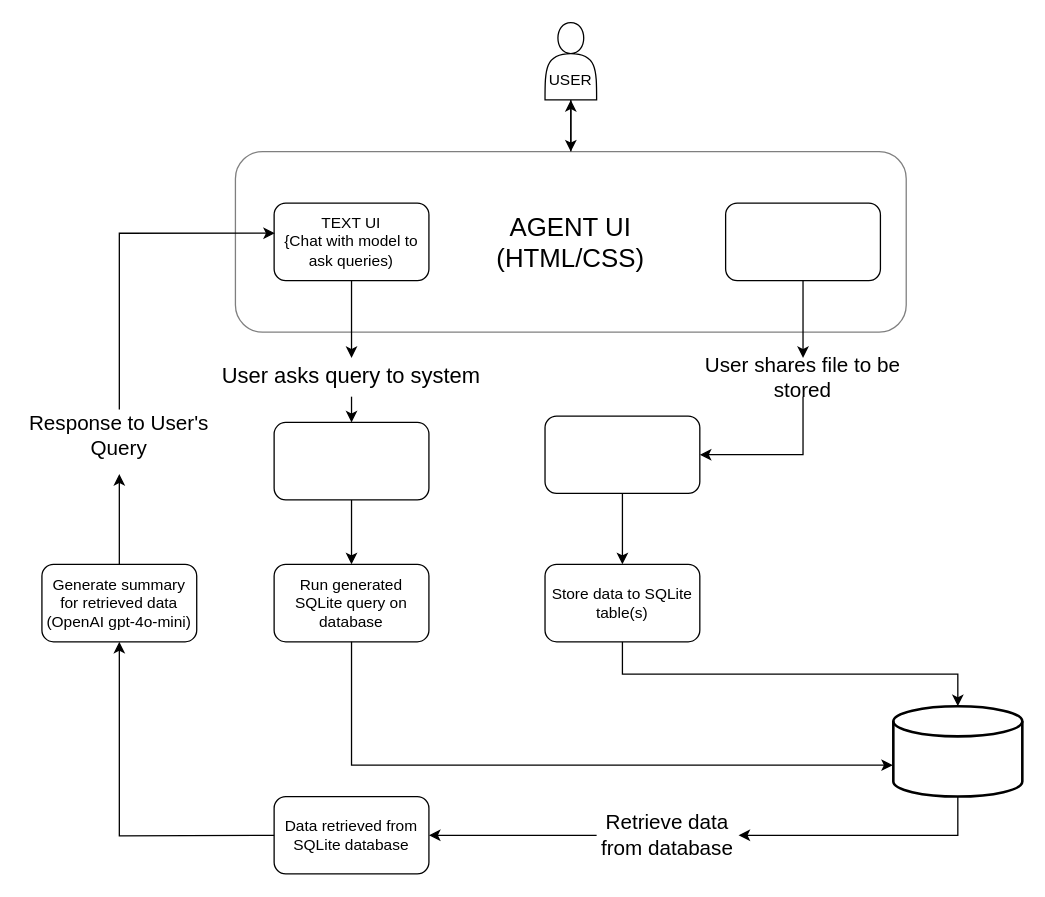
This 1045x897 diagram has some shape labels left out. Here are the shapes that lost their labels. From the top down, the box of each, then its label:
(724, 202, 880, 281): FILE UI (User can share the url to the file)
(273, 421, 429, 500): Process user query and generate equivalent SQL (OpenAI gpt-4o-mini)
(544, 415, 700, 493): Uses python's requests library to get the data from url
(891, 704, 1023, 797): DATABASE (SQLite3)
